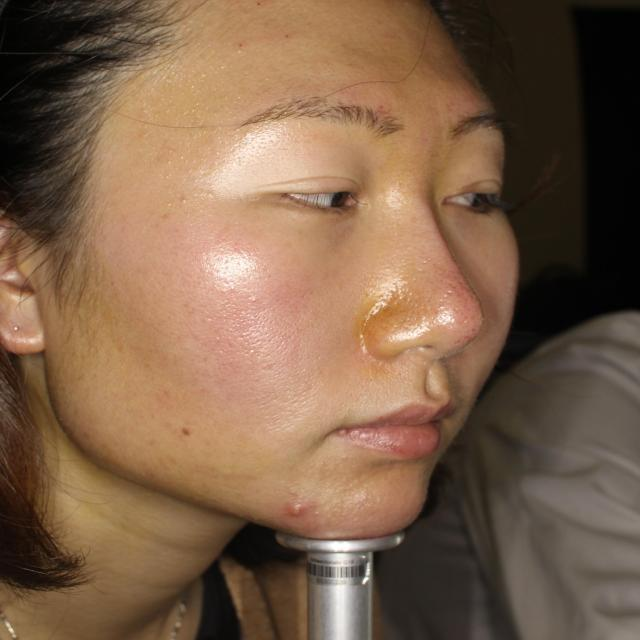comedone: (284, 493, 322, 529)
